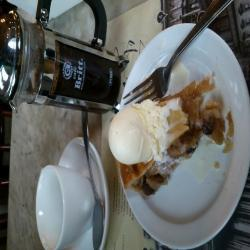apple_pie: (116, 92, 227, 194)
icecream: (101, 101, 169, 168)
